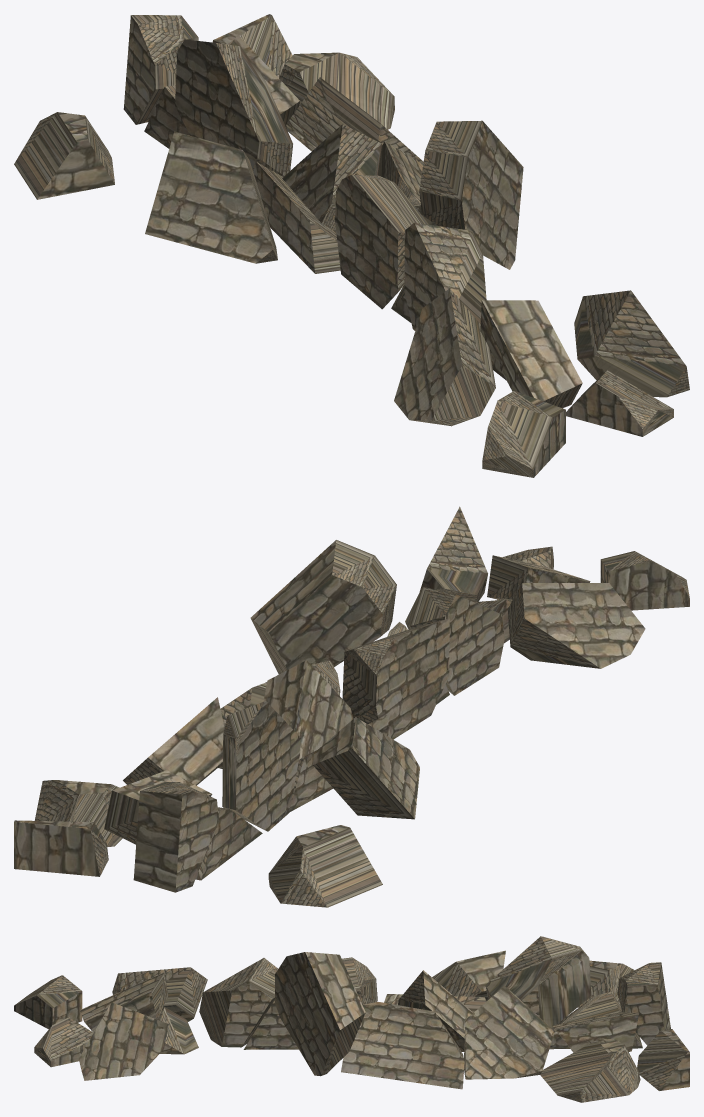
The model's file is BreakWallLarge_000015.obj.
The picture shows the model from 3 angles, top to bottom: view 1: azimuth 30°, elevation 25°; view 2: azimuth 150°, elevation 25°; view 3: azimuth 270°, elevation 25°; orthographic projection. The views are drawn at different scales.
Parts seen in each view (by area): view 1: Cube.057_cell.017_Cube.057_cell.016, Cube.057_cell.018_Cube.057_cell.017, Cube.057_cell.014_Cube.057_cell.013, Cube.057_cell.021_Cube.057_cell.020, Cube.057_cell.013_Cube.057_cell.012, Cube.057_cell.007_Cube.057_cell.006, Cube.057_cell.011_Cube.057_cell.010, Cube.057_cell.010_Cube.057_cell.009, Cube.057_cell.001_Cube.057_cell.000, Cube.057_cell.015_Cube.057_cell.014, Cube.057_cell.003_Cube.057_cell.002, Cube.057_cell_Cube.057_cell.022 (+8 smaller); view 2: Cube.057_cell.018_Cube.057_cell.017, Cube.057_cell.021_Cube.057_cell.020, Cube.057_cell.013_Cube.057_cell.012, Cube.057_cell.014_Cube.057_cell.013, Cube.057_cell.017_Cube.057_cell.016, Cube.057_cell.003_Cube.057_cell.002, Cube.057_cell.001_Cube.057_cell.000, Cube.057_cell.010_Cube.057_cell.009, Cube.057_cell_Cube.057_cell.022, Cube.057_cell.019_Cube.057_cell.018, Cube.057_cell.020_Cube.057_cell.019, Cube.057_cell.015_Cube.057_cell.014 (+8 smaller); view 3: Cube.057_cell.018_Cube.057_cell.017, Cube.057_cell.004_Cube.057_cell.003, Cube.057_cell.020_Cube.057_cell.019, Cube.057_cell.014_Cube.057_cell.013, Cube.057_cell.007_Cube.057_cell.006, Cube.057_cell.010_Cube.057_cell.009, Cube.057_cell.012_Cube.057_cell.011, Cube.057_cell.003_Cube.057_cell.002, Cube.057_cell.019_Cube.057_cell.018, Cube.057_cell.015_Cube.057_cell.014, Cube.057_cell_Cube.057_cell.022, Cube.057_cell.021_Cube.057_cell.020 (+10 smaller).
Boxes of the visible parts, <box> form: Cube.057_cell.017_Cube.057_cell.016: <box>145,131,277,263</box>; Cube.057_cell.018_Cube.057_cell.017: <box>419,120,523,269</box>; Cube.057_cell.014_Cube.057_cell.013: <box>175,39,292,176</box>; Cube.057_cell.021_Cube.057_cell.020: <box>394,288,495,426</box>; Cube.057_cell.013_Cube.057_cell.012: <box>335,174,429,309</box>; Cube.057_cell.007_Cube.057_cell.006: <box>574,290,689,397</box>; Cube.057_cell.011_Cube.057_cell.010: <box>480,300,582,408</box>; Cube.057_cell.010_Cube.057_cell.009: <box>404,222,486,330</box>; Cube.057_cell.001_Cube.057_cell.000: <box>14,112,114,199</box>; Cube.057_cell.015_Cube.057_cell.014: <box>482,390,565,477</box>; Cube.057_cell.003_Cube.057_cell.002: <box>123,15,198,124</box>; Cube.057_cell_Cube.057_cell.022: <box>282,124,381,232</box>; Cube.057_cell.018_Cube.057_cell.017: <box>250,540,396,674</box>; Cube.057_cell.021_Cube.057_cell.020: <box>508,583,645,668</box>; Cube.057_cell.013_Cube.057_cell.012: <box>342,618,449,739</box>; Cube.057_cell.014_Cube.057_cell.013: <box>222,701,300,831</box>; Cube.057_cell.017_Cube.057_cell.016: <box>312,717,419,819</box>; Cube.057_cell.003_Cube.057_cell.002: <box>133,782,218,892</box>; Cube.057_cell.001_Cube.057_cell.000: <box>268,825,382,907</box>; Cube.057_cell.010_Cube.057_cell.009: <box>405,586,504,695</box>; Cube.057_cell_Cube.057_cell.022: <box>263,660,353,759</box>; Cube.057_cell.019_Cube.057_cell.018: <box>14,820,108,876</box>; Cube.057_cell.020_Cube.057_cell.019: <box>123,697,224,785</box>; Cube.057_cell.015_Cube.057_cell.014: <box>600,551,689,610</box>; Cube.057_cell.018_Cube.057_cell.017: <box>275,952,365,1076</box>; Cube.057_cell.004_Cube.057_cell.003: <box>341,1002,464,1089</box>; Cube.057_cell.020_Cube.057_cell.019: <box>464,986,554,1079</box>; Cube.057_cell.014_Cube.057_cell.013: <box>485,936,591,1028</box>; Cube.057_cell.007_Cube.057_cell.006: <box>79,1002,168,1080</box>; Cube.057_cell.010_Cube.057_cell.009: <box>199,958,277,1047</box>; Cube.057_cell.012_Cube.057_cell.011: <box>540,1039,640,1102</box>; Cube.057_cell.003_Cube.057_cell.002: <box>617,962,670,1045</box>; Cube.057_cell.019_Cube.057_cell.018: <box>637,1029,689,1090</box>; Cube.057_cell.015_Cube.057_cell.014: <box>14,975,82,1029</box>; Cube.057_cell_Cube.057_cell.022: <box>398,970,472,1051</box>; Cube.057_cell.021_Cube.057_cell.020: <box>112,967,207,1021</box>.
Bounding box in the file's own units: 29.93 × 12.99 × 70.44.
Materials: 2 (2 with a texture image).
